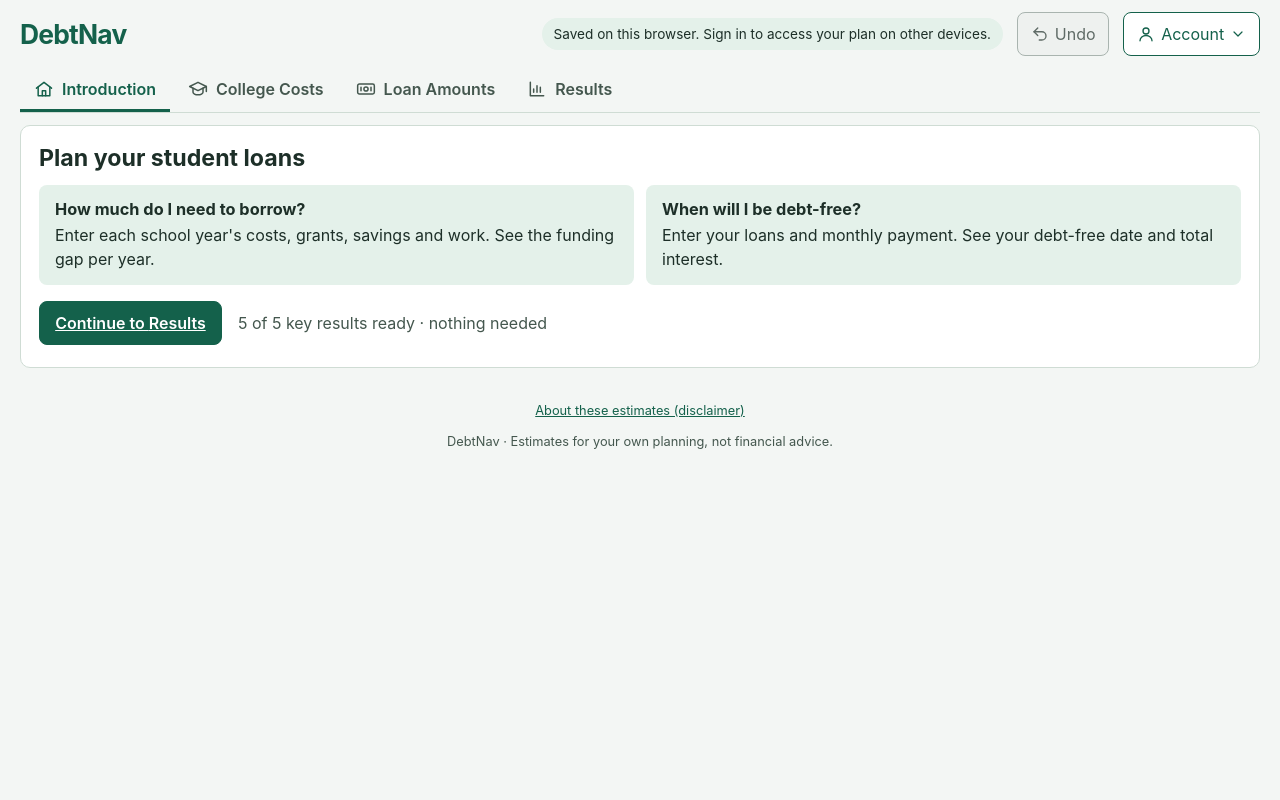
Test case: auth pieces (presentational) › the account menu opens Your data in a dialog; without an account it has no Sign out
Step 1. Click the button "Account" → (1192, 34), box [1123,12,1260,56]
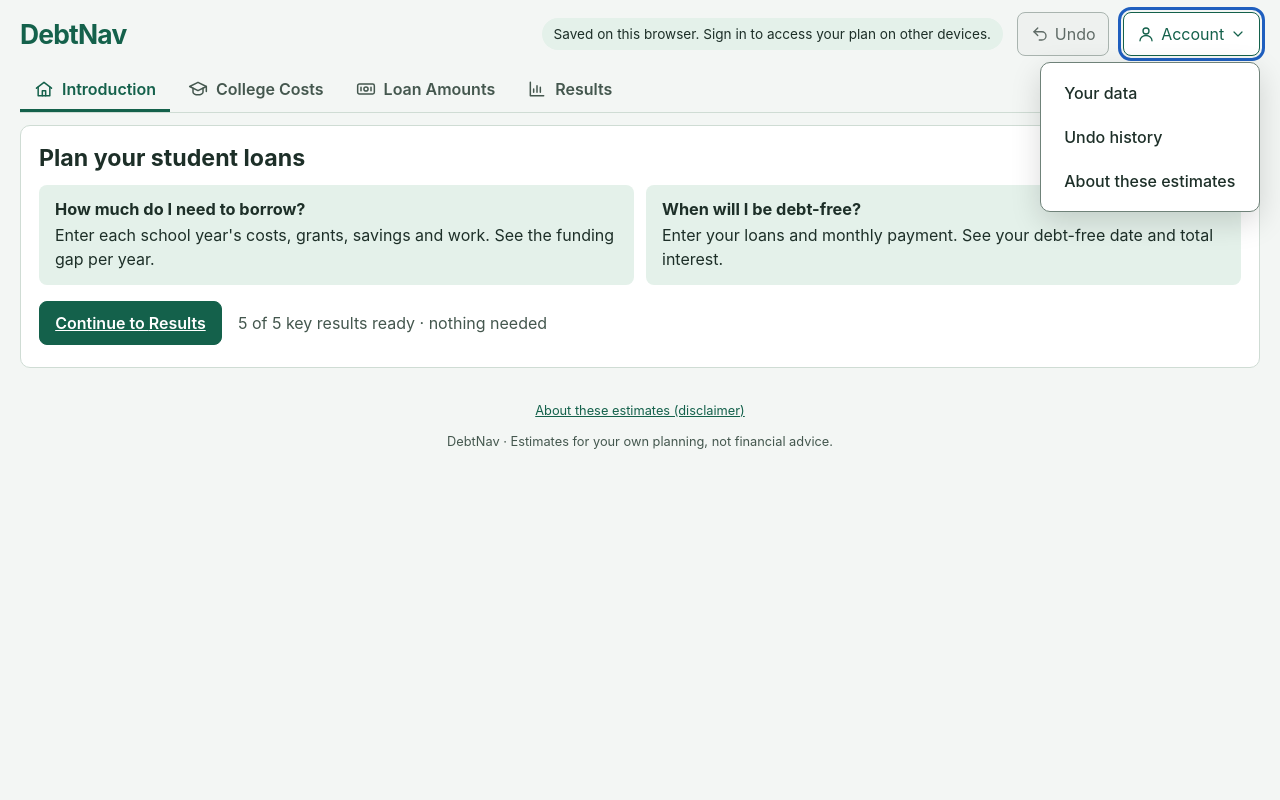
Step 2. Click the button "Your data" → (1150, 93), box [1049,71,1251,115]
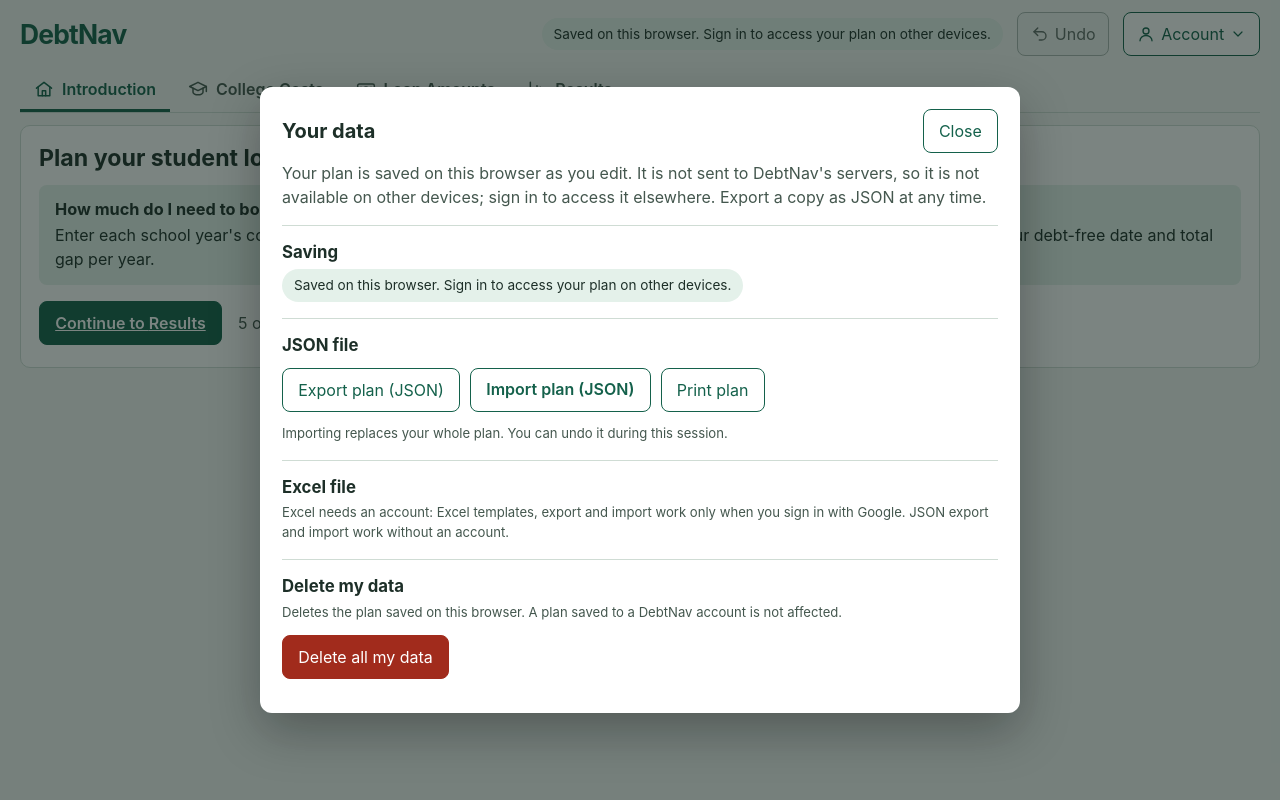
Result: the heading "Your data" is shown at [282,119,375,144]
Result: the button "Export plan (JSON)" is shown at [282,368,460,412]
Step 3. Click the button "Close" → (960, 132), box [923,110,998,154]
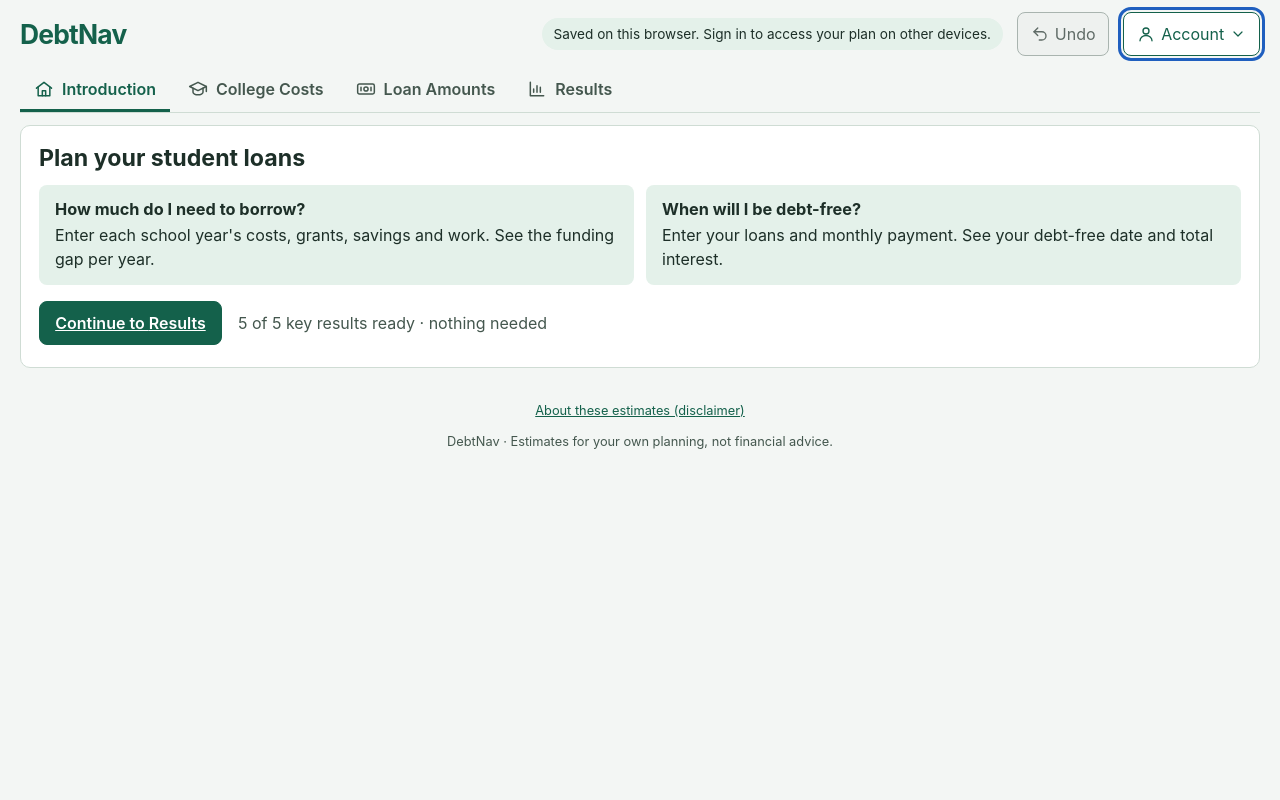
Result: the dialog is gone
